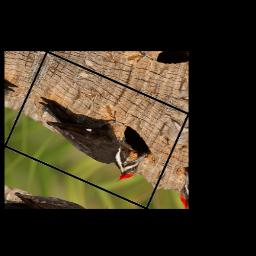Woodpecker: (20, 80, 158, 189)
